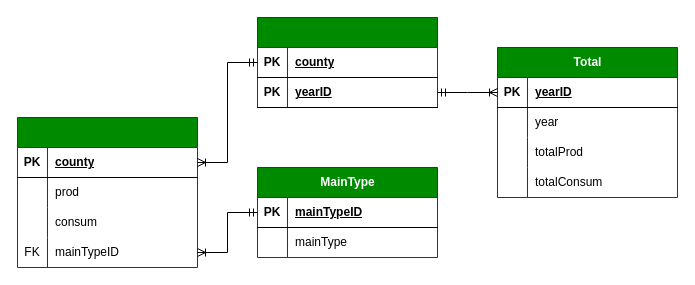
This 695x285 diagram has some shape labels left out. The box of each missing label's shape, as (x1, y1, x2, y2) in pixels:
GreenEnergy: (16, 116, 198, 268)
TotalGreenEnergy: (256, 16, 438, 108)
